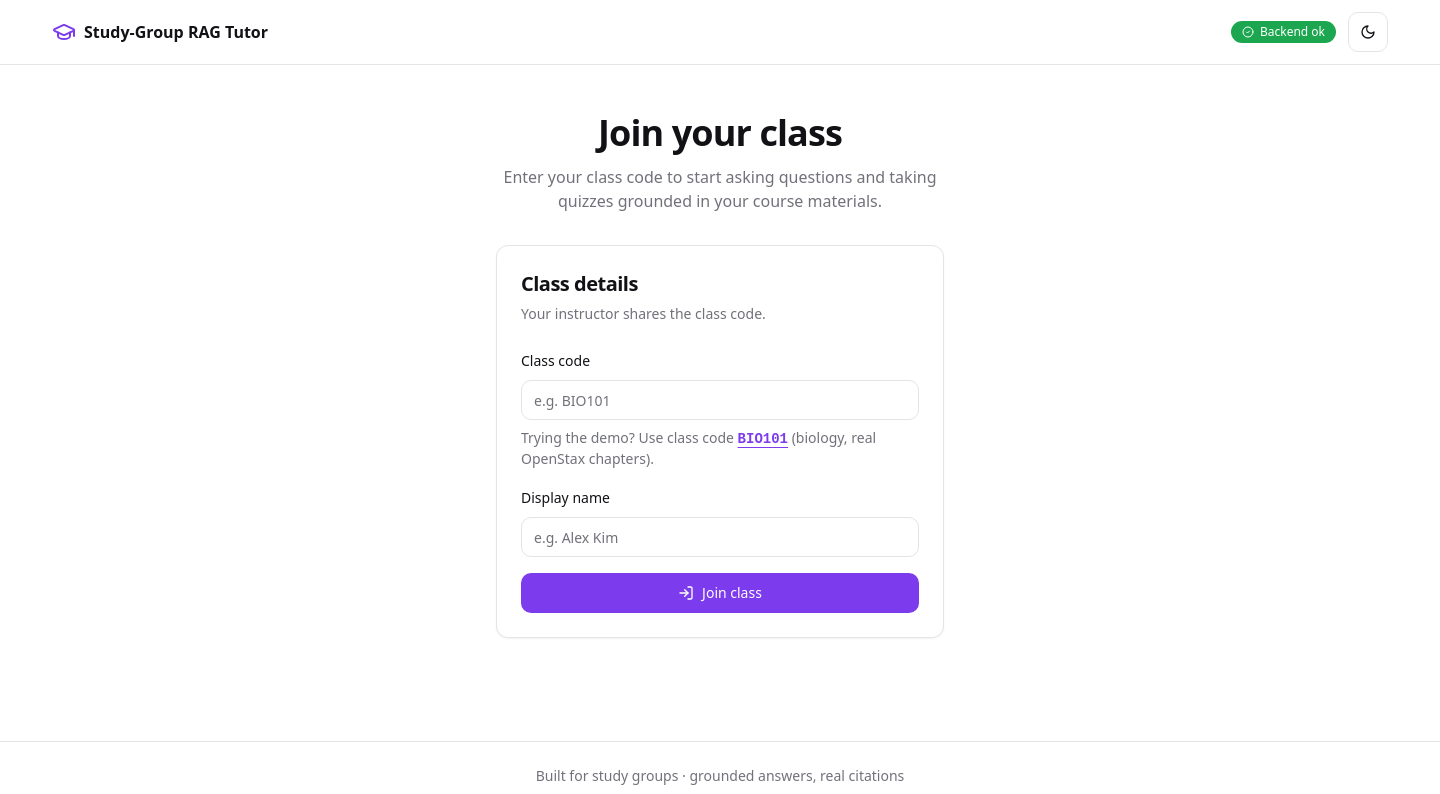
JoinPage › shows a friendly message when the class doesn't exist (404)
The image size is (1440, 794).
Type "NOPE" into the field labelled "Class code" at (720, 400), box [521,380,919,420]
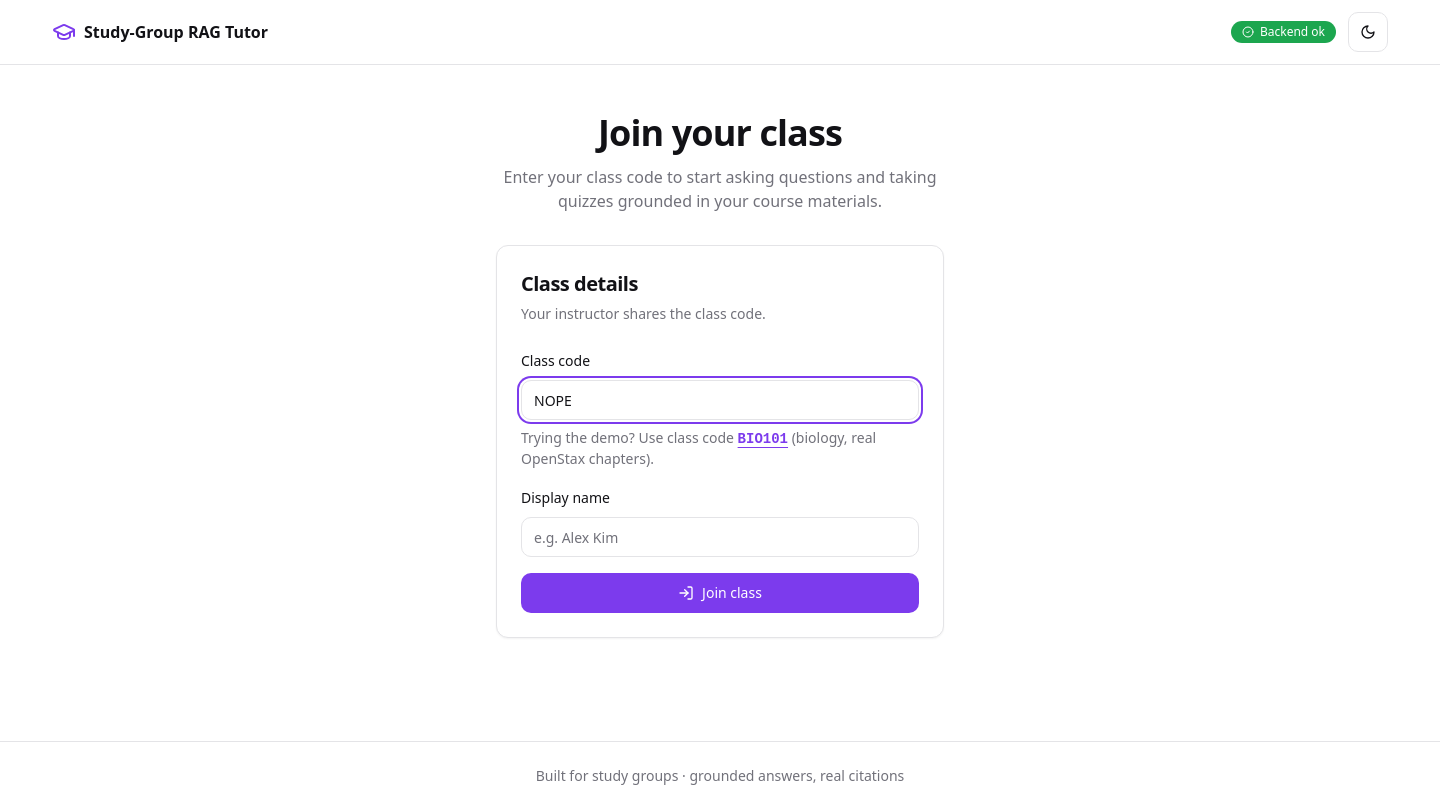
Type "Alex" into the field labelled "Display name" at (720, 537), box [521,517,919,557]
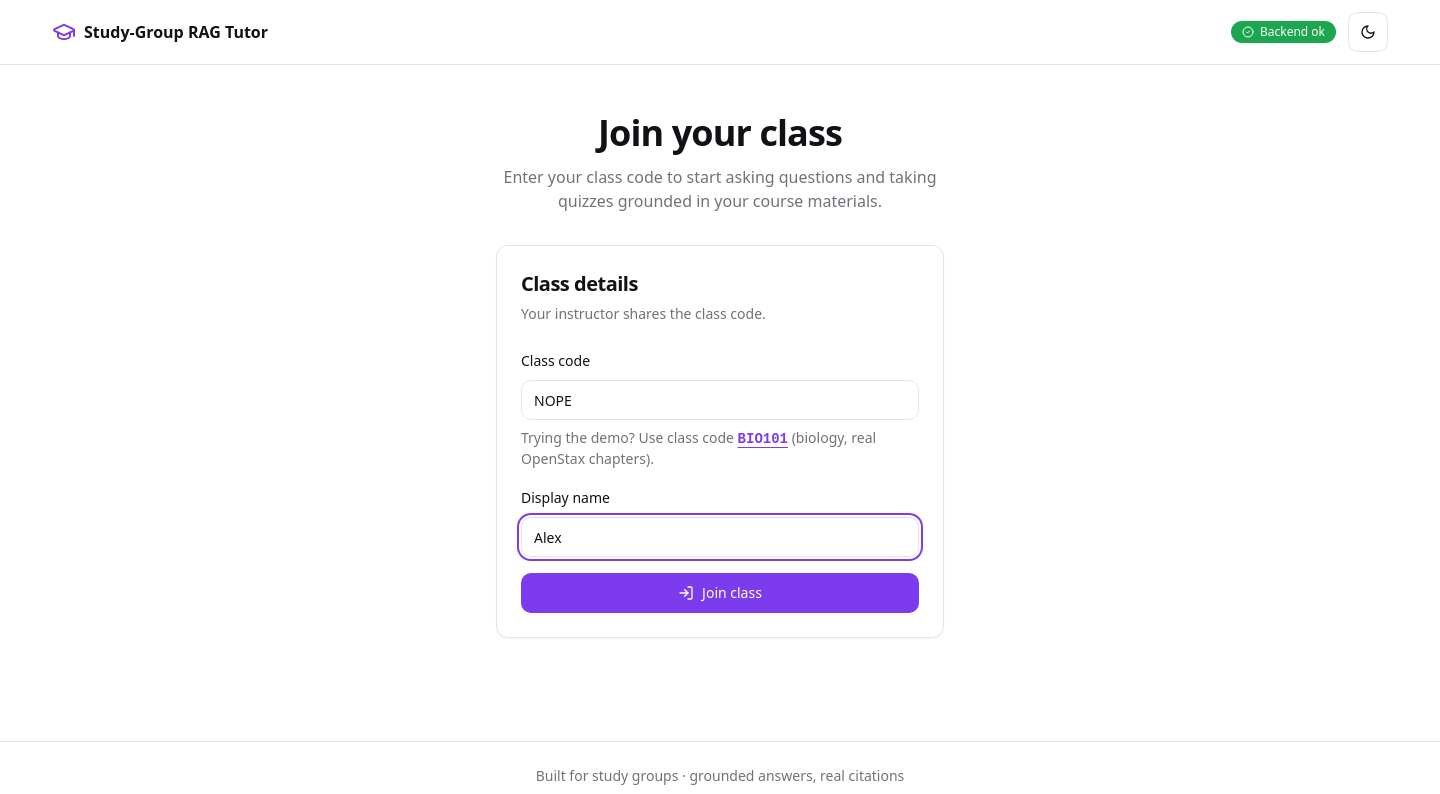
Click the button "Join class" at (720, 593), box [521,573,919,613]
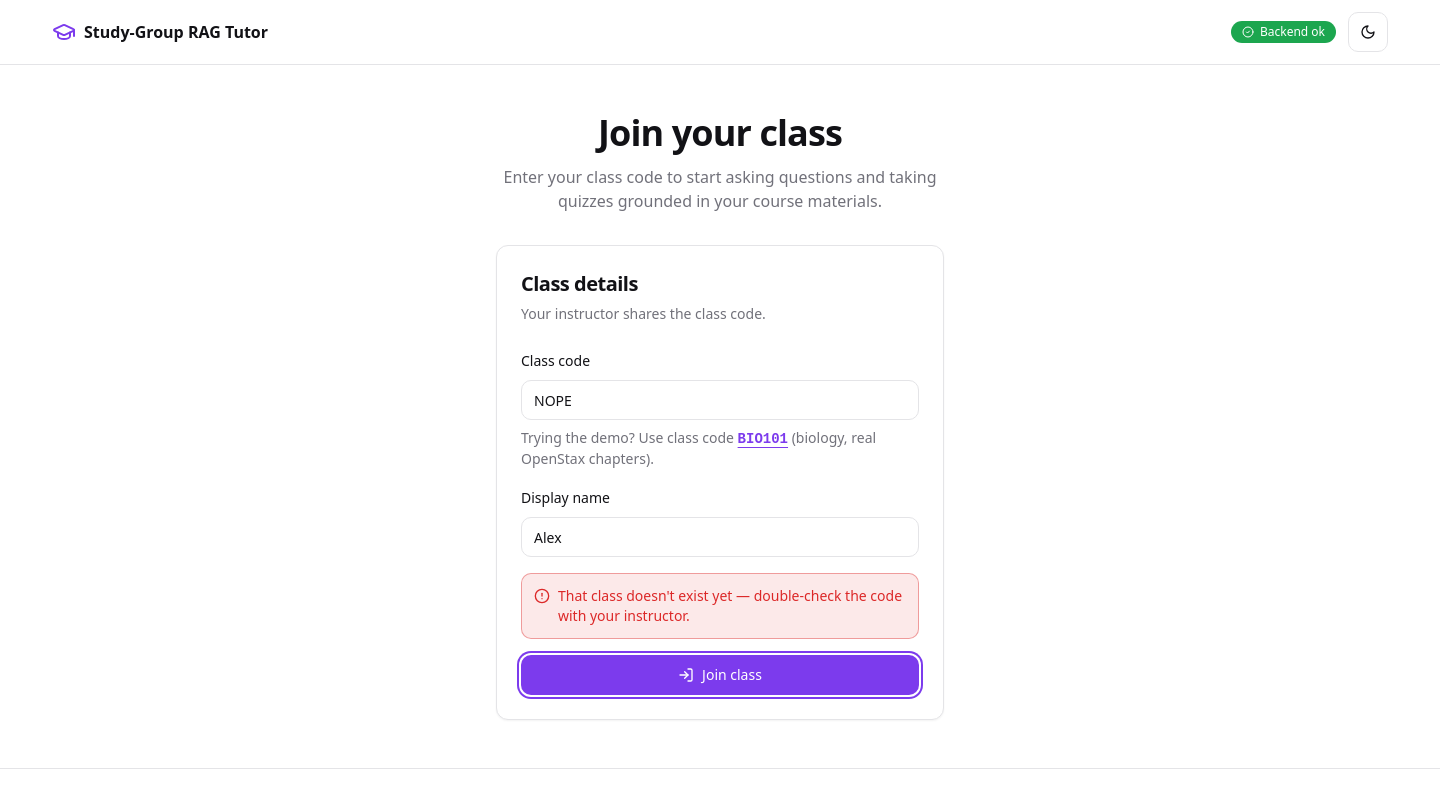
Now the text "doesn't exist yet" is shown, box [558,586,902,625]
